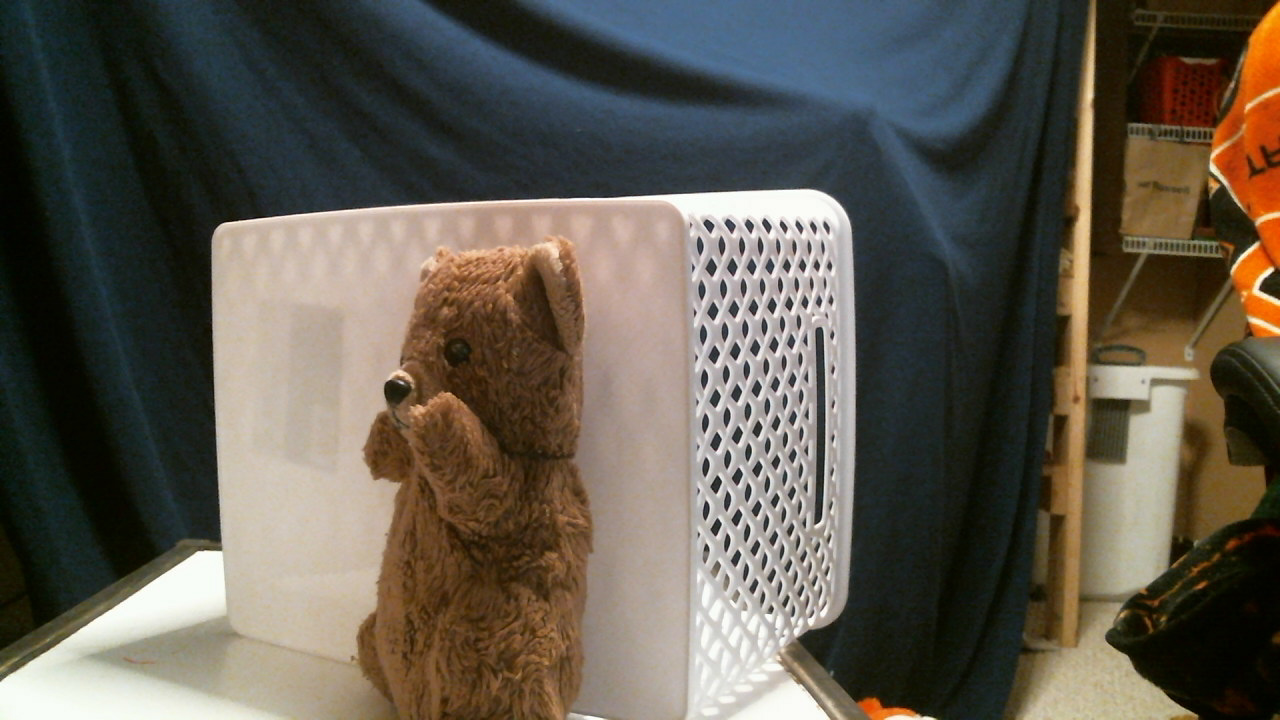Little_Mister_Bear: (391, 337, 516, 446)
